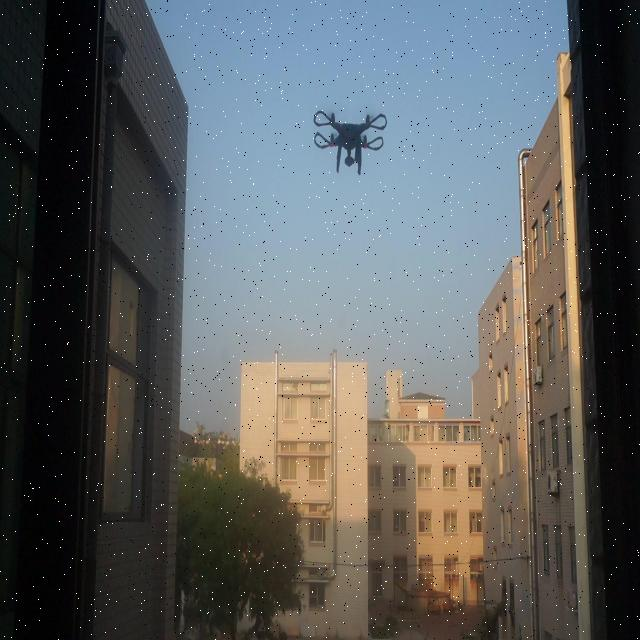UAV: (314, 109, 388, 175)
